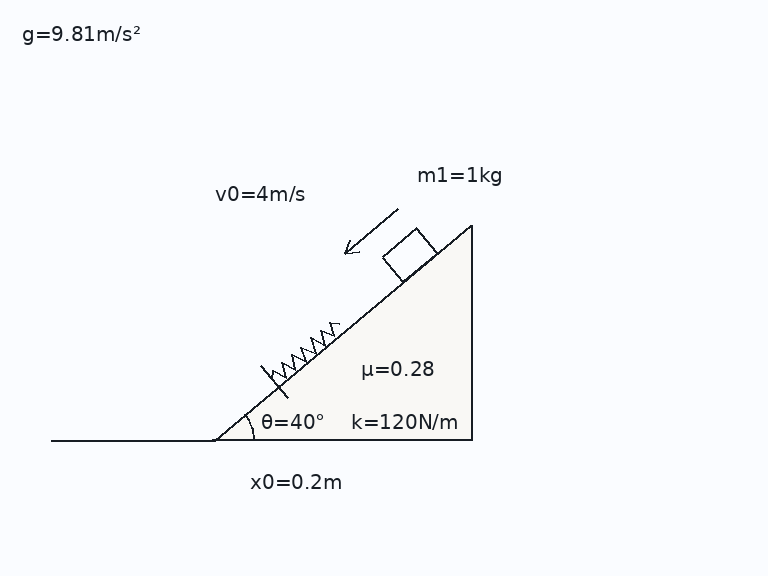block: (380, 226, 439, 283)
ramp: (212, 223, 473, 442)
spring: (270, 320, 341, 381)
